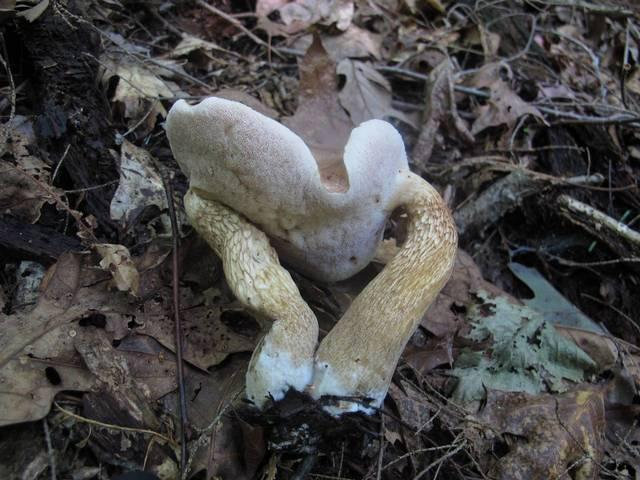poisonous_mushroom: (162, 94, 459, 419)
